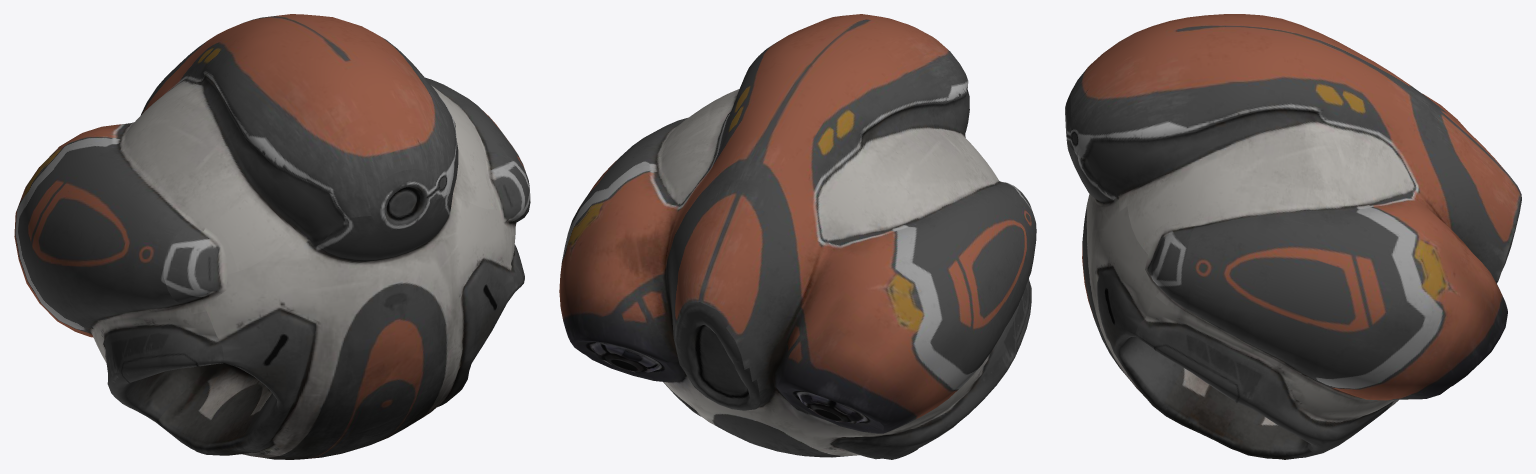
The model's file is body_chest.dae.
The picture shows the model from 3 angles, left to right: view 1: azimuth 30°, elevation 25°; view 2: azimuth 150°, elevation 25°; view 3: azimuth 270°, elevation 25°; orthographic projection. The views are drawn at different scales.
Visible parts, largest first — view 1: Mesh_0; view 2: Mesh_0; view 3: Mesh_0.
Boxes of the visible parts, <box> form: Mesh_0: <box>14,14,530,459</box>; Mesh_0: <box>559,14,1036,459</box>; Mesh_0: <box>1065,14,1521,459</box>.
Size of the model in its own units: 1.26 by 1.2 by 1.16.
1 material, 1 textured.
